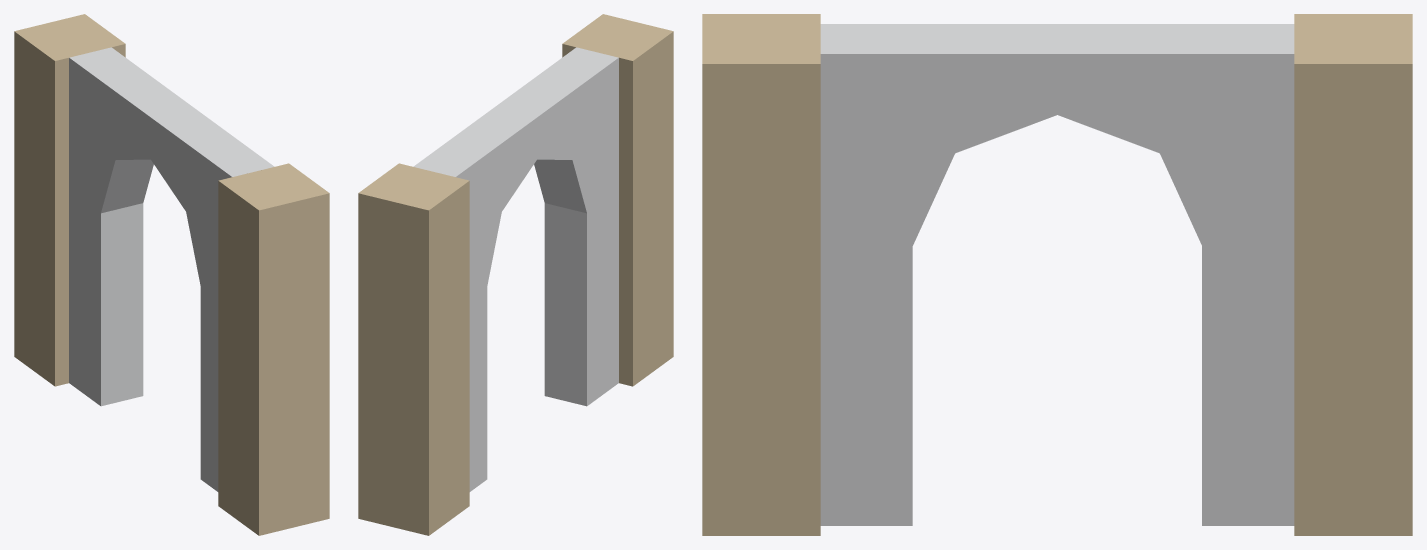
The model's file is Wood_Door_Round_01.glb.
The picture shows the model from 3 angles, left to right: view 1: azimuth 30°, elevation 25°; view 2: azimuth 150°, elevation 25°; view 3: azimuth 270°, elevation 25°; orthographic projection. The views are drawn at different scales.
Visible parts, largest first — view 1: Wood_Door_Round_01; view 2: Wood_Door_Round_01; view 3: Wood_Door_Round_01.
Boxes of the visible parts, left/top/right/bottom form: Wood_Door_Round_01: left=14, top=14, right=329, bottom=535; Wood_Door_Round_01: left=358, top=14, right=673, bottom=535; Wood_Door_Round_01: left=702, top=14, right=1412, bottom=535.
Bounding box in the file's own units: 0.5001 × 2.2 × 3.
